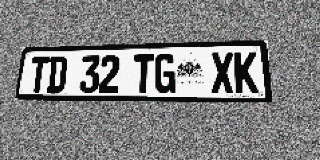2: (99, 55, 120, 93)
3: (79, 55, 101, 93)
D: (46, 56, 68, 93)
G: (154, 54, 176, 93)
K: (234, 52, 259, 93)
T: (133, 54, 154, 93), (28, 57, 50, 93)
X: (211, 52, 234, 93)
